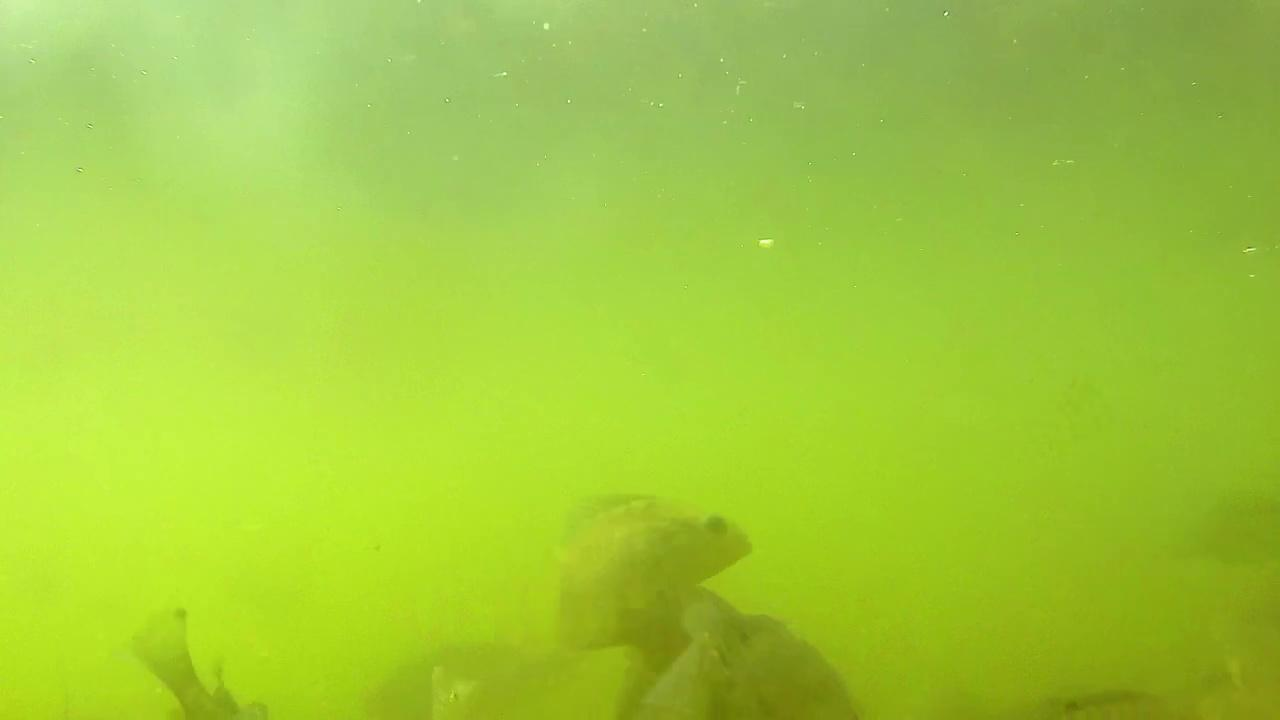Tilapia: (545, 488, 756, 648)
